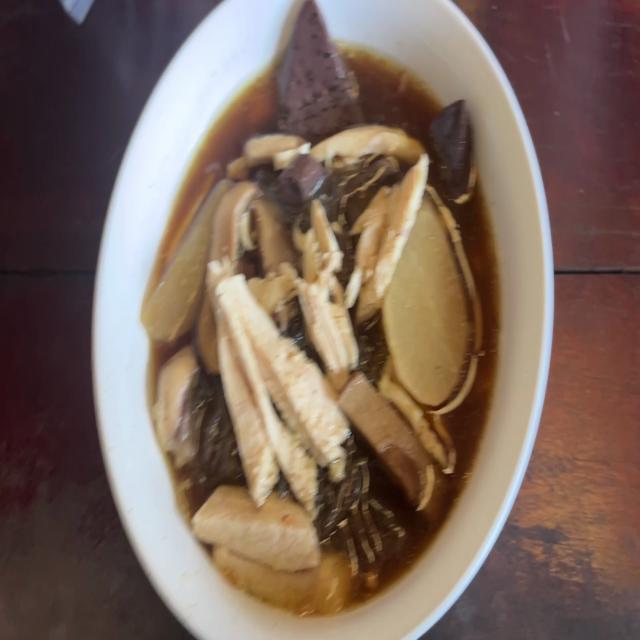boiled_chicken_blood_jelly: (282, 11, 354, 126), (429, 102, 469, 195), (282, 157, 325, 208)
chicken_shredded: (210, 283, 348, 492), (359, 164, 425, 312), (293, 216, 352, 376), (202, 490, 309, 563), (157, 350, 197, 448), (320, 123, 418, 158), (240, 124, 298, 162)
daikon_radish: (402, 223, 463, 408), (140, 186, 211, 340)
noodle: (153, 58, 494, 607)
